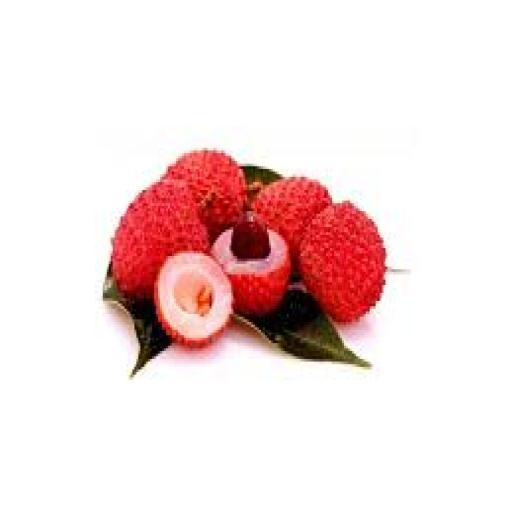lychee: (113, 180, 209, 298), (299, 201, 385, 321), (212, 214, 290, 316), (155, 254, 233, 348), (167, 151, 247, 242), (254, 177, 332, 263)
